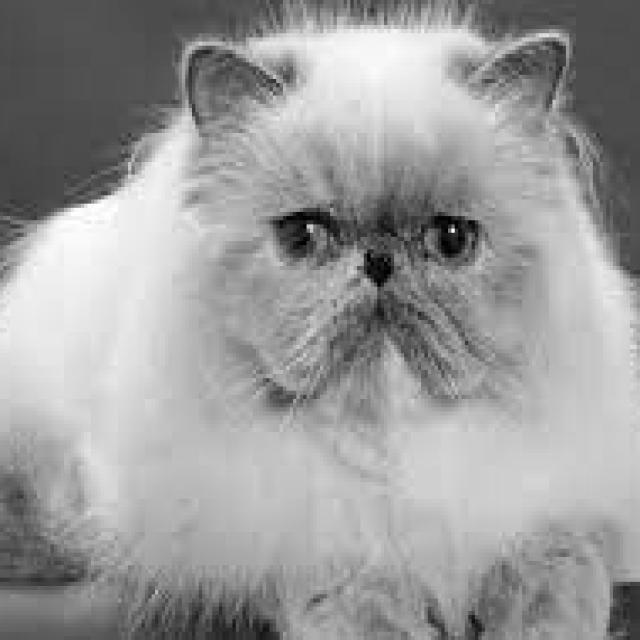iran: (226, 129, 548, 417)
